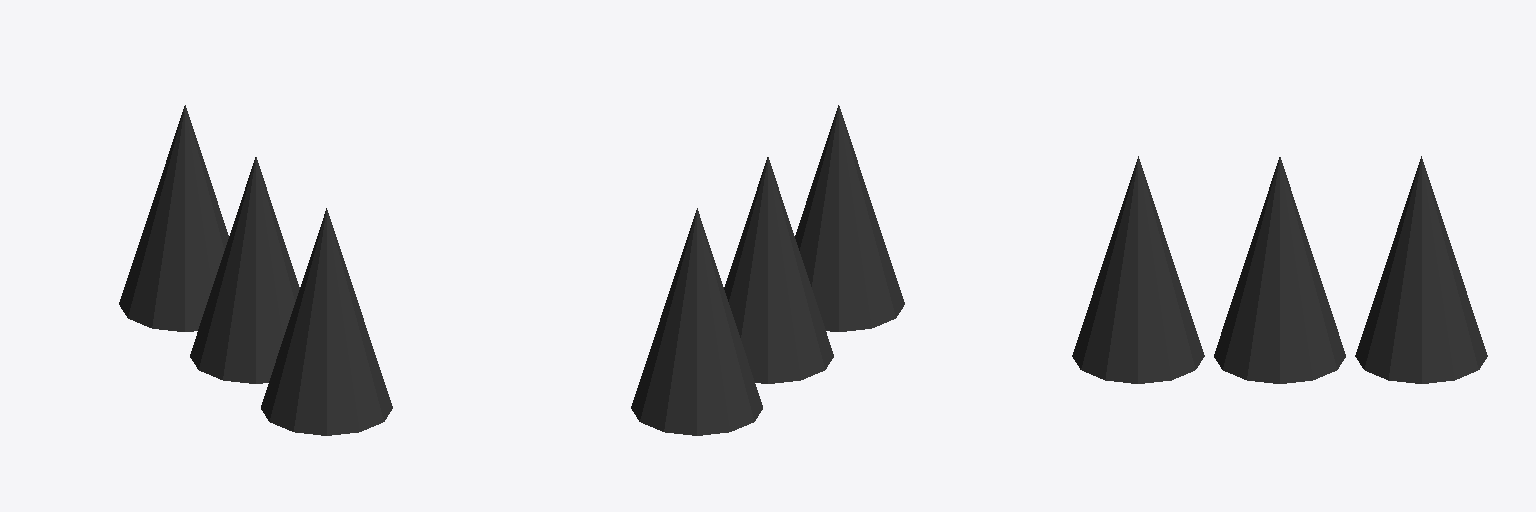
Rendered from Spikes.obj.
The picture shows the model from 3 angles: view 1: azimuth 30°, elevation 25°; view 2: azimuth 150°, elevation 25°; view 3: azimuth 270°, elevation 25°; orthographic projection.
Visible parts, largest first — view 1: Cone.003_Cone; view 2: Cone.003_Cone; view 3: Cone.003_Cone.
Boxes of the visible parts, box(x1,y1,x2,y2) form: Cone.003_Cone: box(119, 105, 392, 435); Cone.003_Cone: box(631, 105, 904, 435); Cone.003_Cone: box(1072, 156, 1487, 383).
Bounding box in the file's own units: 9.6 × 16 × 30.08.